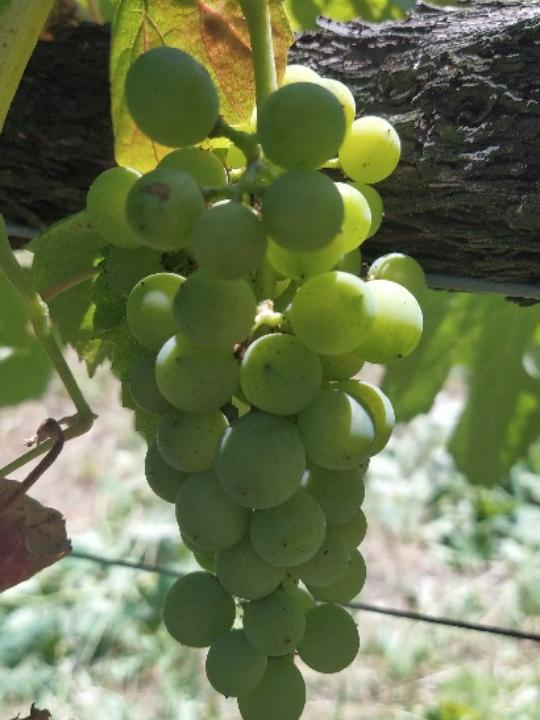grape: (86, 48, 433, 720)
